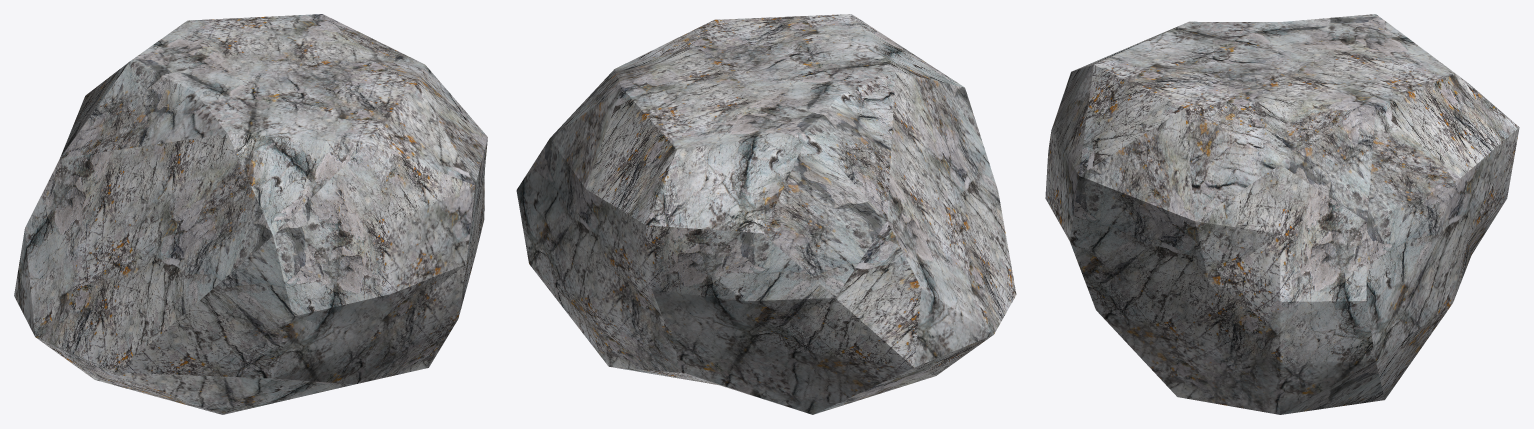
File: fractured_granite_mid.gltf
The picture shows the model from 3 angles, left to right: view 1: azimuth 30°, elevation 25°; view 2: azimuth 150°, elevation 25°; view 3: azimuth 270°, elevation 25°; orthographic projection. The views are drawn at different scales.
Parts seen in each view (by area): view 1: fractured_granite_mid; view 2: fractured_granite_mid; view 3: fractured_granite_mid.
Part boxes in pixels (box(x1,y1,x2,y2)): fractured_granite_mid: box(14, 14, 487, 414); fractured_granite_mid: box(516, 14, 1016, 414); fractured_granite_mid: box(1045, 14, 1519, 414).
Bounding box in the file's own units: 2.46 × 1.49 × 2.23.
1 material, 1 textured.
